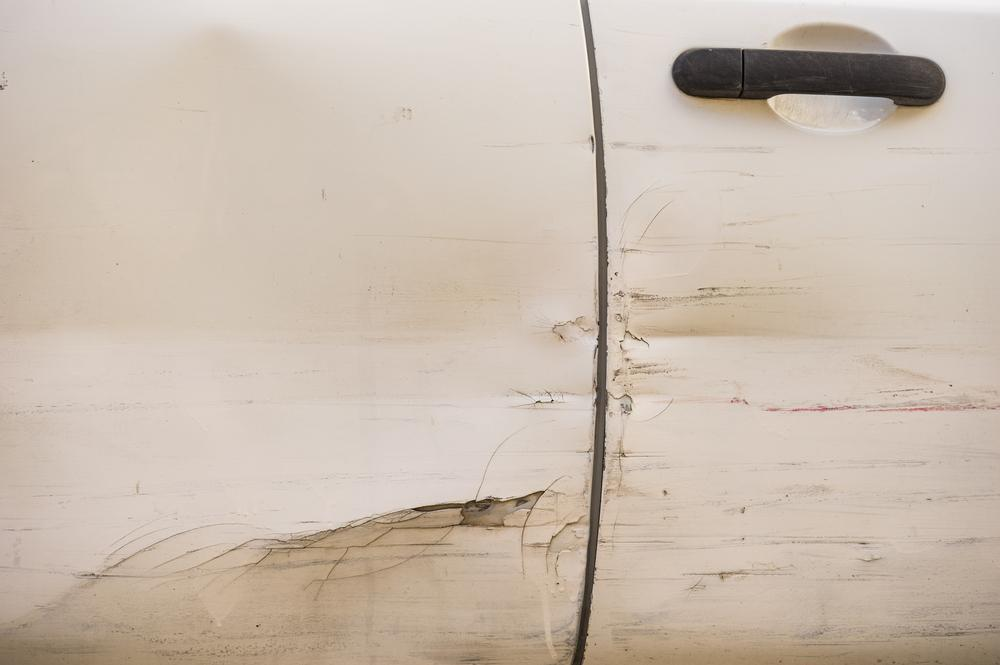dent: (58, 27, 584, 520), (630, 178, 882, 401)
scratch: (582, 357, 1000, 651)
